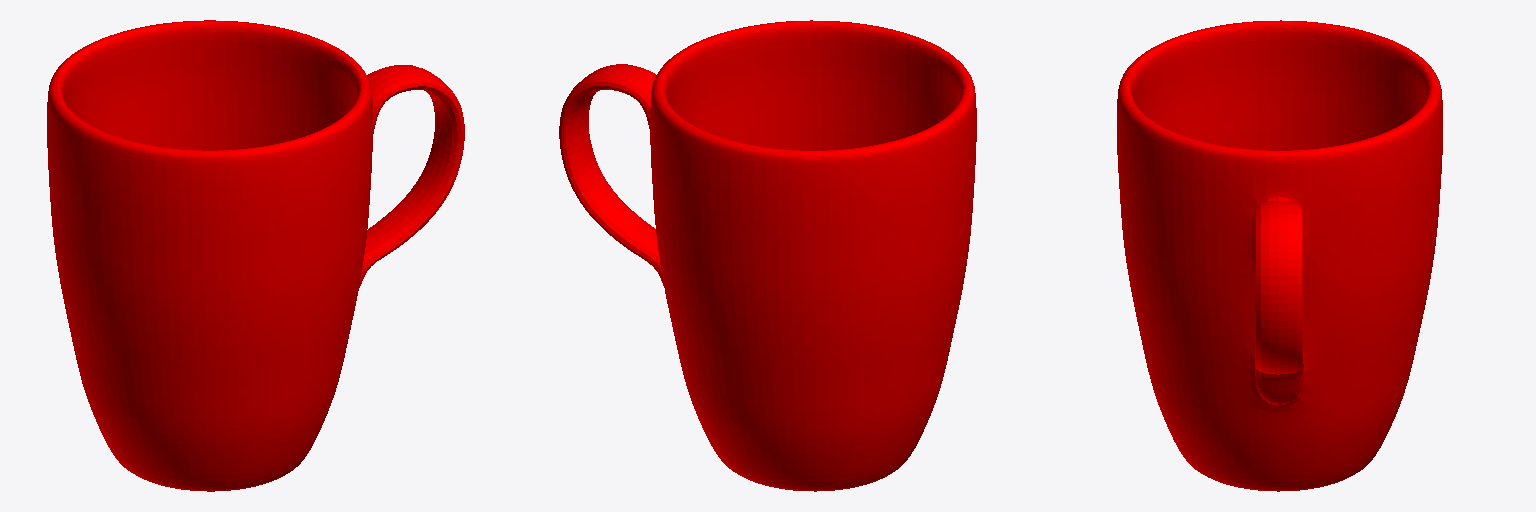
The robot description file, URDF, robot "coffee_cup_sharp.urdf":
<?xml version="1.0" ?>
<robot name="coffee_cup_sharp.urdf">
  <link concave="yes" name="baseLink">
    <inertial>
      <origin rpy="0 0 0" xyz="0 0 0"/>
       <mass value="1"/>
       <inertia ixx="1" ixy="0" ixz="0" iyy="1" iyz="0" izz="1"/>
    </inertial>
    <visual>
      <origin rpy="1.570796326794896619231 0 0" xyz="0.015 0 -0.05"/>
      <geometry>
        <mesh filename="coffee_cup_sharp.obj" scale="0.002 0.002 0.002"/>
      </geometry>
      <material name="red">
       <color rgba="1 0 0 1"/>
     </material>
    </visual>
    <collision concave="yes">
      <origin rpy="1.570796326794896619231 0 0" xyz="0.015 0 -0.05"/>
      <geometry>
        <mesh filename="coffee_cup_sharp.obj" scale="0.002 0.002 0.002"/>
      </geometry>
    </collision>
  </link>
</robot>
        

--- Facts derived from the render (not from the file) ---
Views: 3 orthographic renders of the robot side by side, from view 1: azimuth 30°, elevation 25°; view 2: azimuth 150°, elevation 25°; view 3: azimuth 270°, elevation 25°.
Model coffee_cup_sharp.urdf with 1 links and 0 joints (none), rooted at baseLink, posed all joints at 0.
Links seen in each view (by area): view 1: baseLink; view 2: baseLink; view 3: baseLink.
Link boxes in pixels (x1,y1,x2,y2): baseLink: (47,20,464,491); baseLink: (559,20,976,491); baseLink: (1117,20,1442,491).
Size in the robot's own frame: 0.1298 by 0.0943 by 0.1181 metres.
Meshes: 1 distinct files referenced, 1 mesh visuals loaded (1 OBJ).
